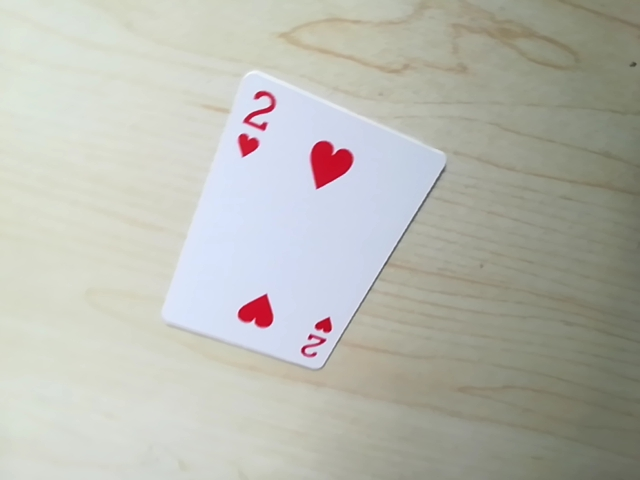hx 2: (232, 75, 280, 163), (299, 312, 340, 368)
